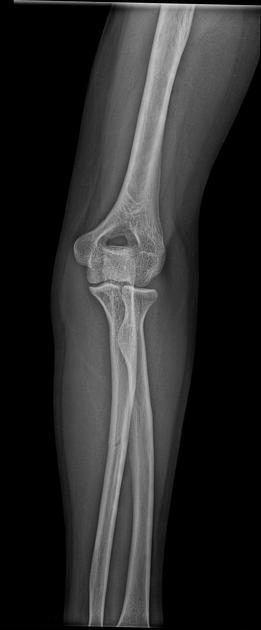fractured: (106, 437, 128, 450)
